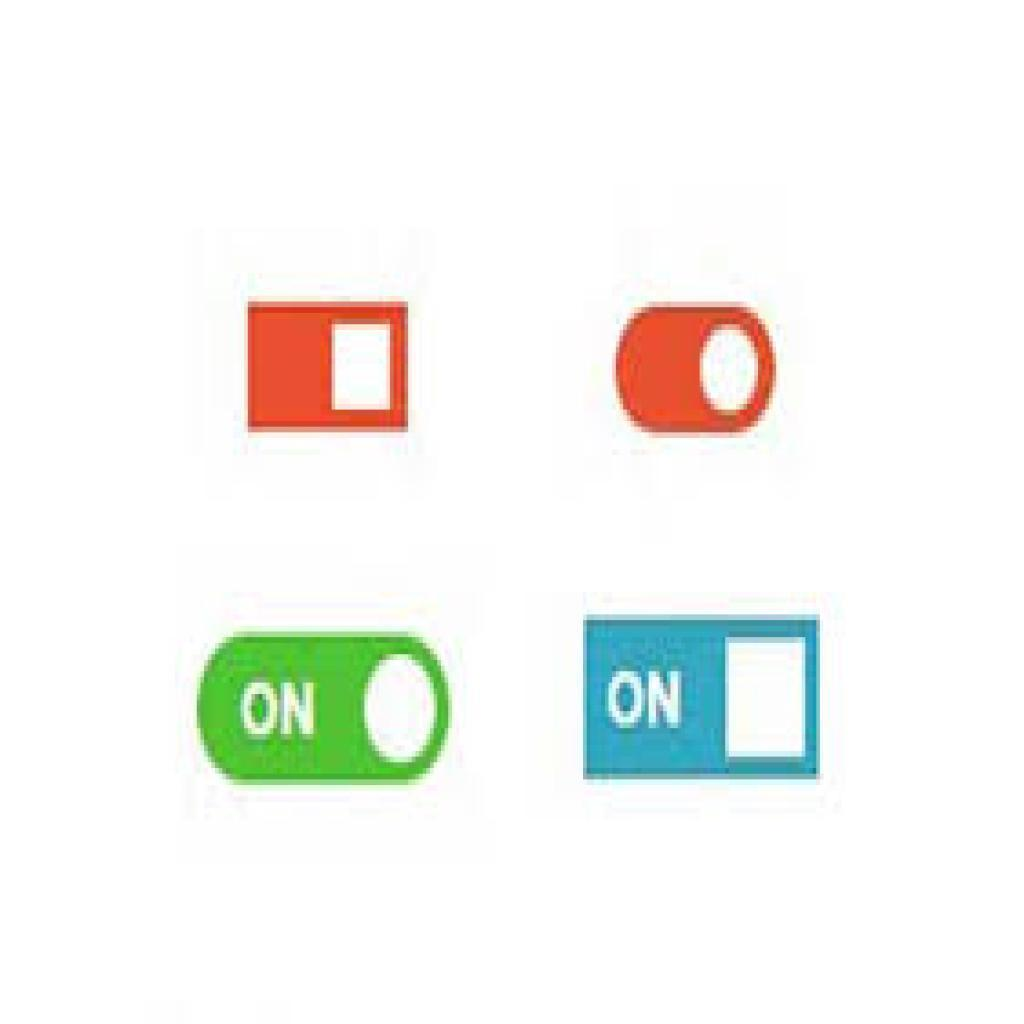switch: (199, 634, 451, 788), (614, 304, 777, 436)
